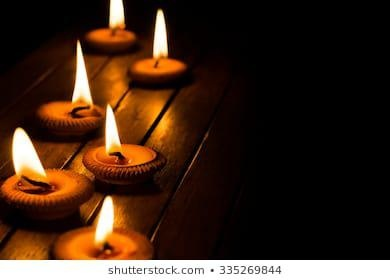fire: (8, 124, 47, 180), (69, 37, 92, 108), (92, 193, 116, 245), (102, 103, 123, 154), (150, 6, 169, 62), (106, 0, 127, 30)
